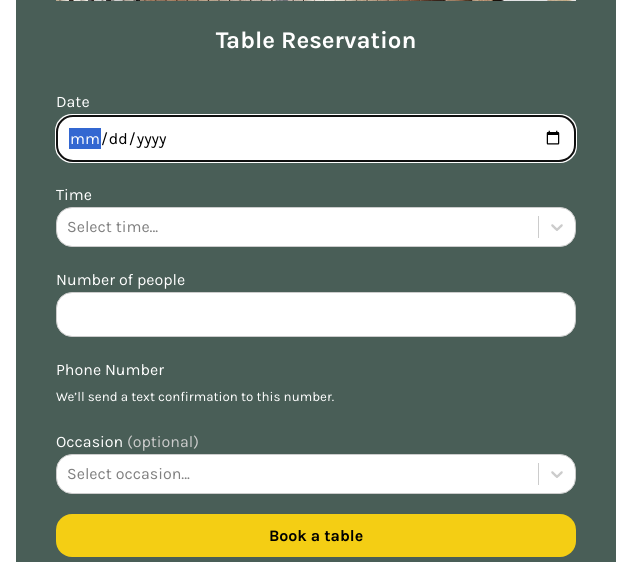
Scenario: ReservationForm Component › form does not submit with missing phone number
(page scrolled)
In the date field labelled "Date": (316, 138) [56,115,576,162], type "2025-06-30"
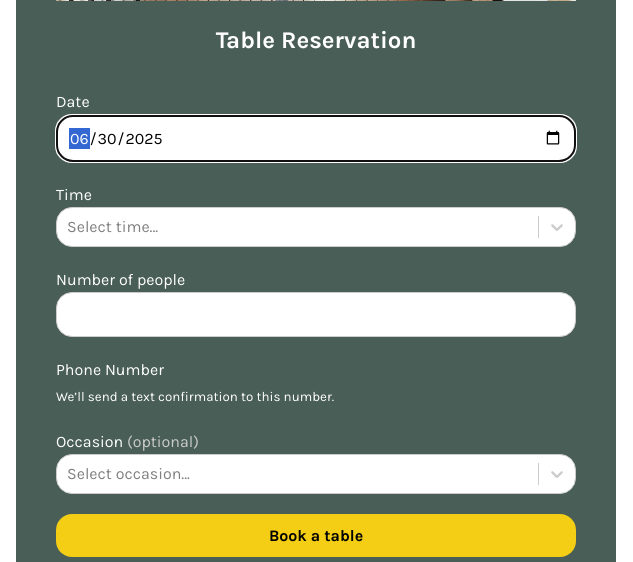
In the number field labelled "Number of people": (316, 315) [56,292,576,337], type "2"
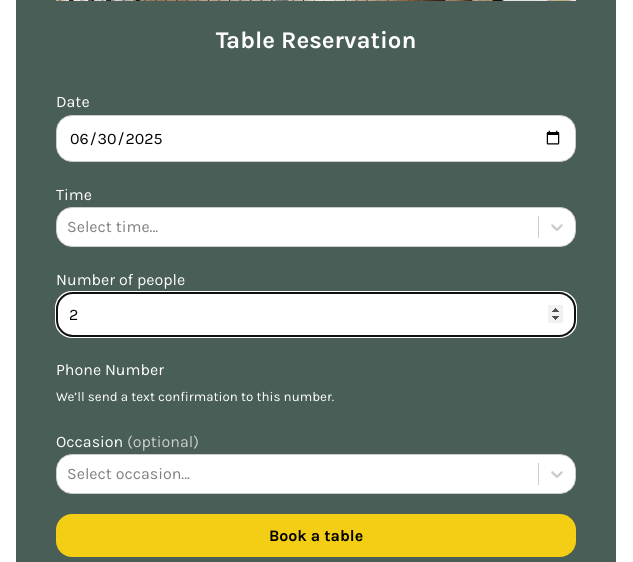
Click the button "Book a table": (316, 535) [56,514,576,557]
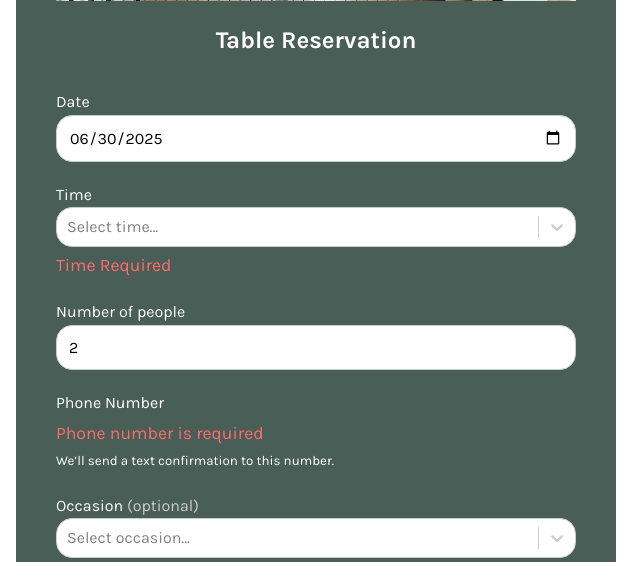
Now the text "Phone number is required" is shown, box [56,423,264,443]
